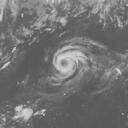cyclone: (50, 37, 127, 89)
